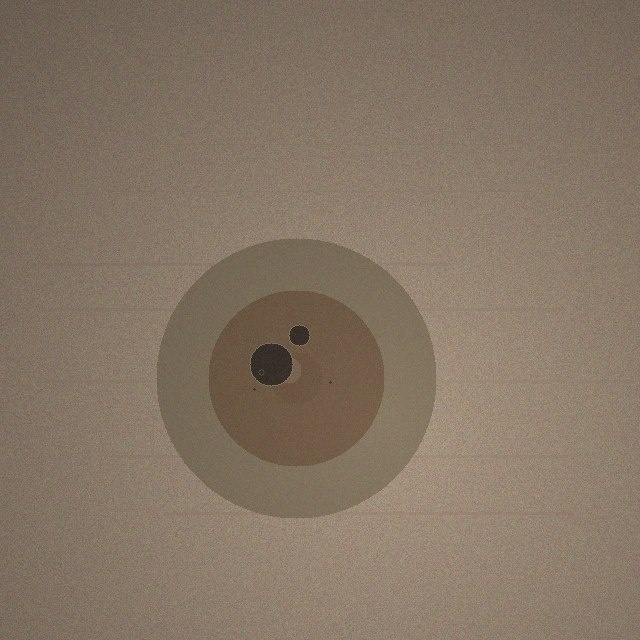shrinkage: (156, 238, 436, 518)
